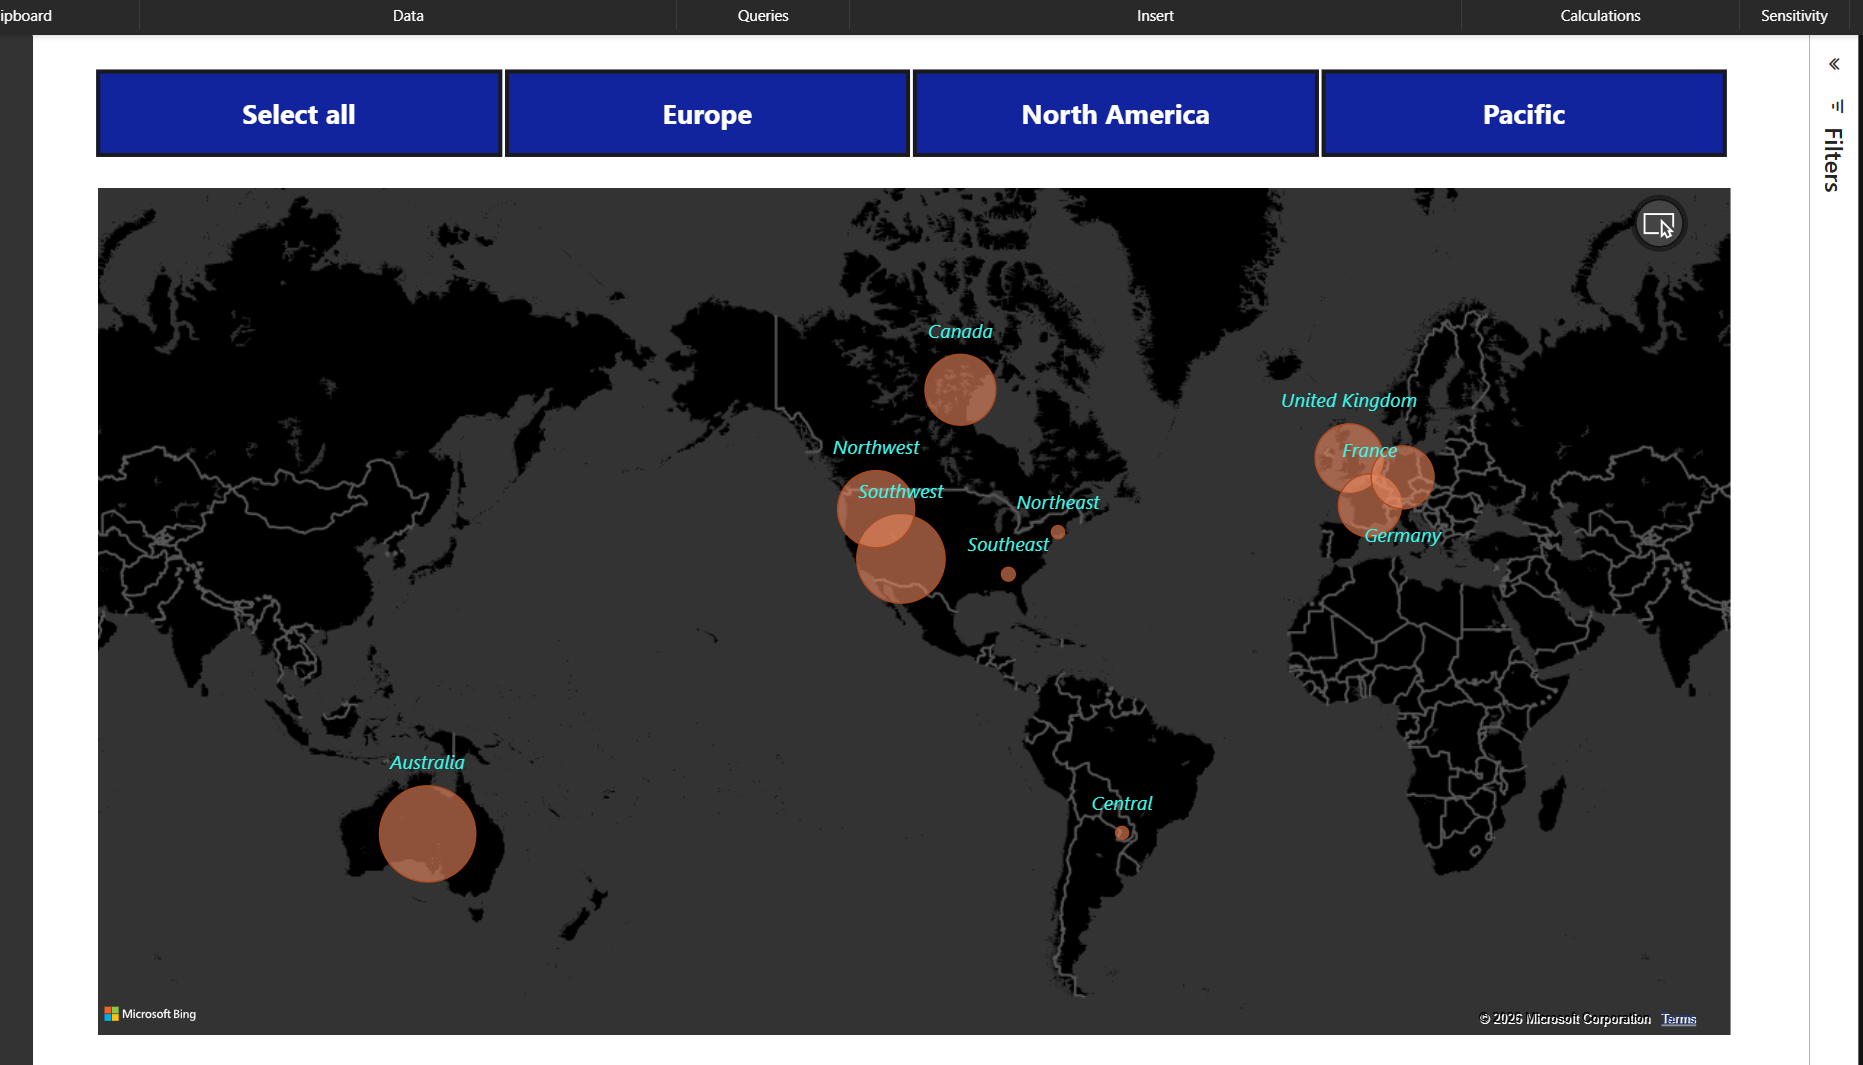

What the dashboard file says about the page in this screenshot:
{"tool":"powerbi","page":{"name":"Map","canvas":[1280,720],"ordinal":1},"visuals":[{"type":"map","fields":{"Size":["Measure Table.Total Ordered"],"Category":["Territory Lookup.Country","Territory Lookup.Region"]},"box":[97,100,1135,593],"z":0},{"type":"slicer","fields":{"Values":["Territory Lookup.Continent"]},"box":[75,17,1172,74],"z":1000},{"type":"shape","box":[0,0,58,720],"z":2000}]}

Visuals, with their boxes in screenshot pixels (x1, y1, x2, y2):
map - Measure Table.Total Ordered x Territory Lookup.Country: l=91, t=182, r=1720, b=1034
slicer - Territory Lookup.Continent: l=59, t=63, r=1741, b=169
shape: l=0, t=39, r=35, b=1064
